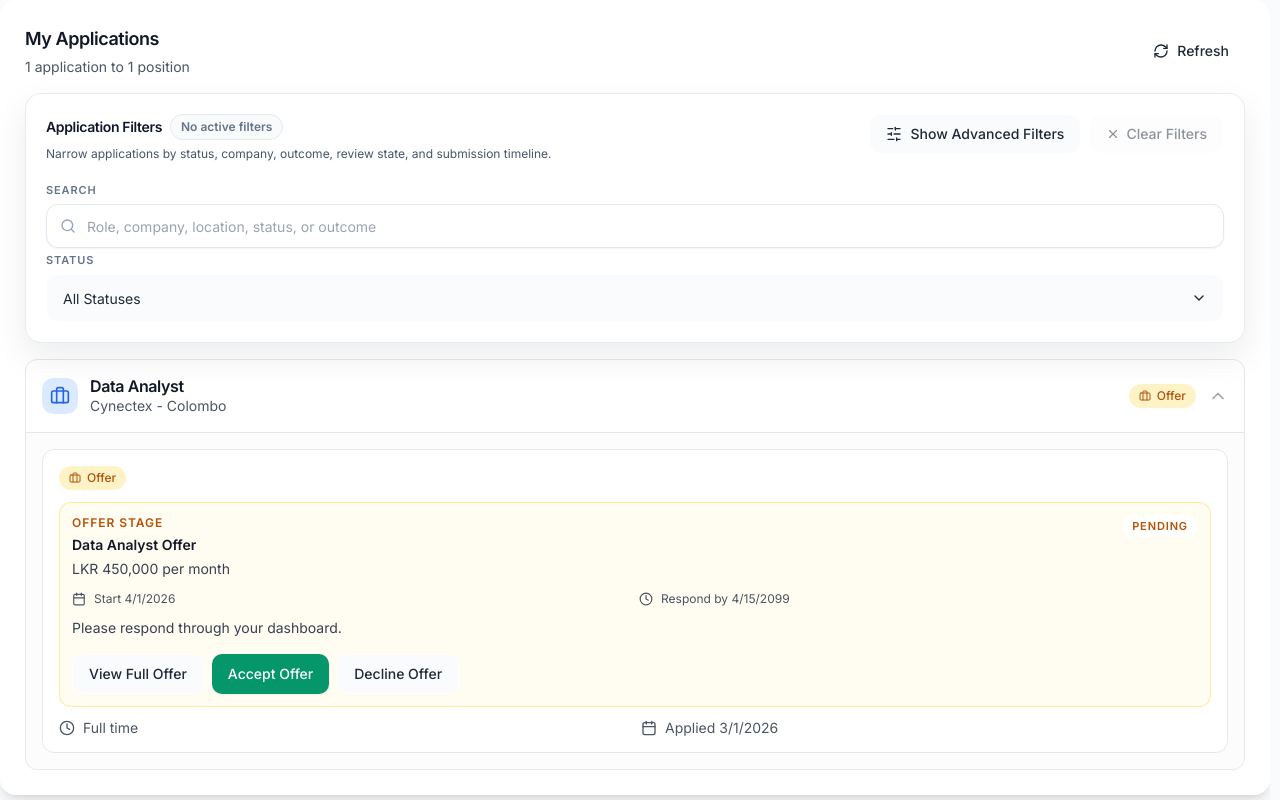
it: MyApplicationsList offer flow › lets the candidate accept a pending offer from the application list
Expected: the text "Offer Stage" is shown, [72,515,163,530]
Click the button "Accept Offer": point(270, 674) [212,654,329,694]
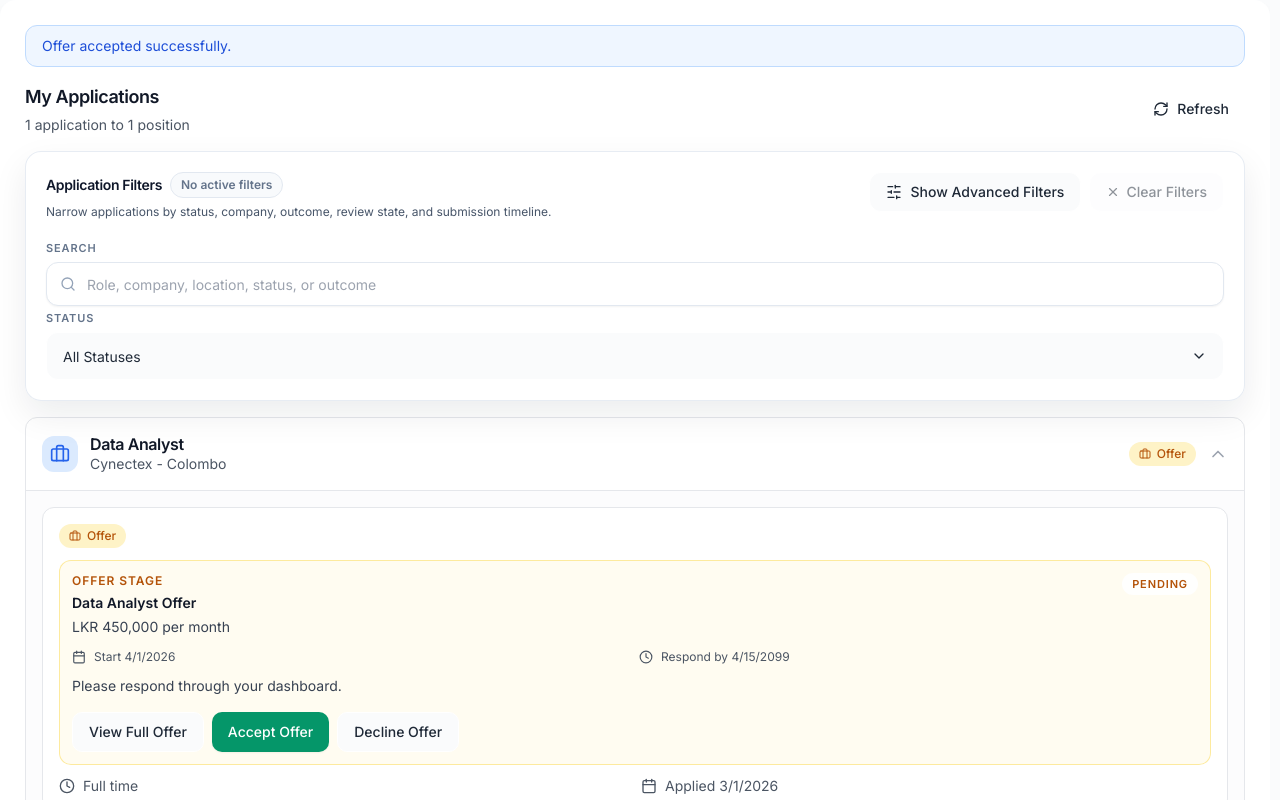
Result: the text "Offer accepted successfully." is shown at [25,25,1245,67]
